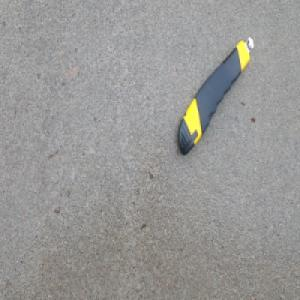Cutter: (174, 34, 253, 156)
